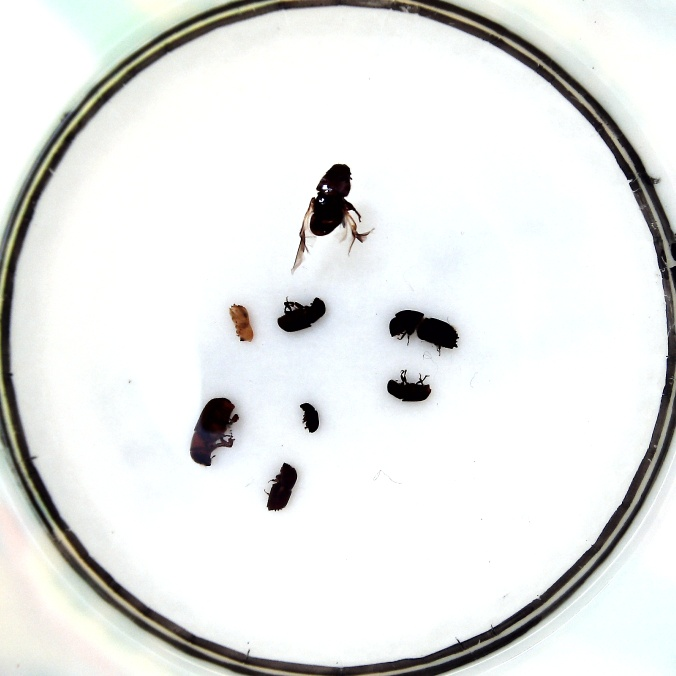acuminatus: (298, 401, 319, 434)
armandi: (277, 296, 325, 332), (386, 368, 431, 402)
boerner: (389, 308, 458, 355)
coleoptera: (228, 303, 254, 343)
leconte: (189, 397, 239, 466), (308, 163, 352, 235)
linnaeus: (264, 461, 297, 512)
